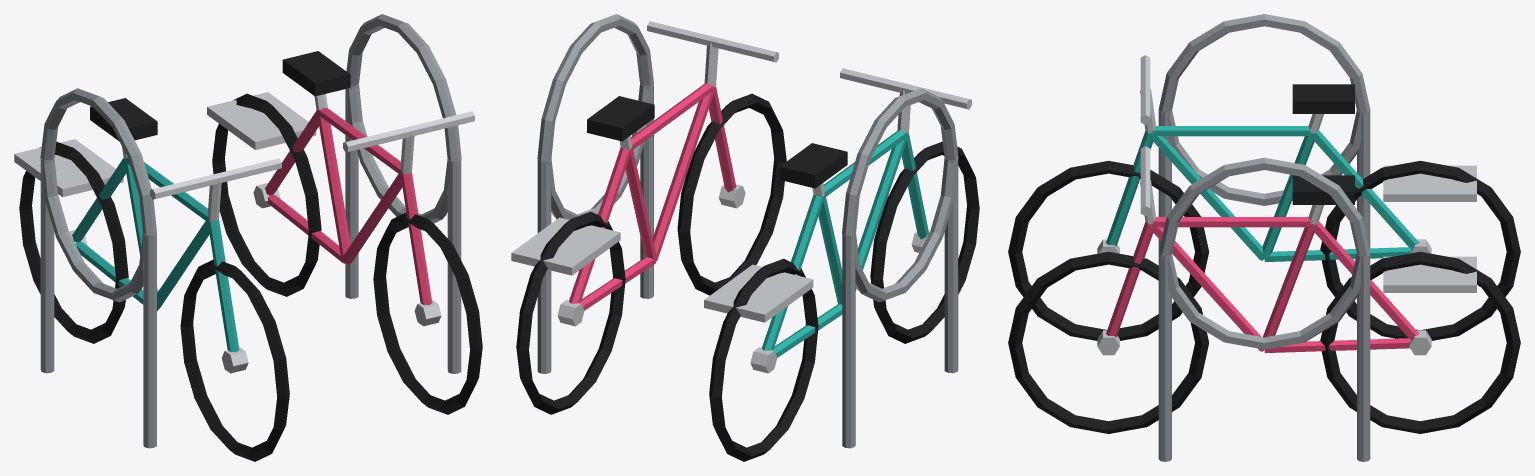
Rendered from getkong-hhbuegel.glb.
The picture shows the model from 3 angles, left to right: view 1: azimuth 30°, elevation 25°; view 2: azimuth 150°, elevation 25°; view 3: azimuth 270°, elevation 25°; orthographic projection. The views are drawn at different scales.
Parts seen in each view (by area): view 1: buegel; view 2: buegel; view 3: buegel.
Boxes of the visible parts, x1,y1,x2,y2 form: buegel: (14,14,482,461); buegel: (511,14,979,461); buegel: (1008,14,1520,461).
Size of the model in its own units: 1.26 by 1.18 by 1.81.
